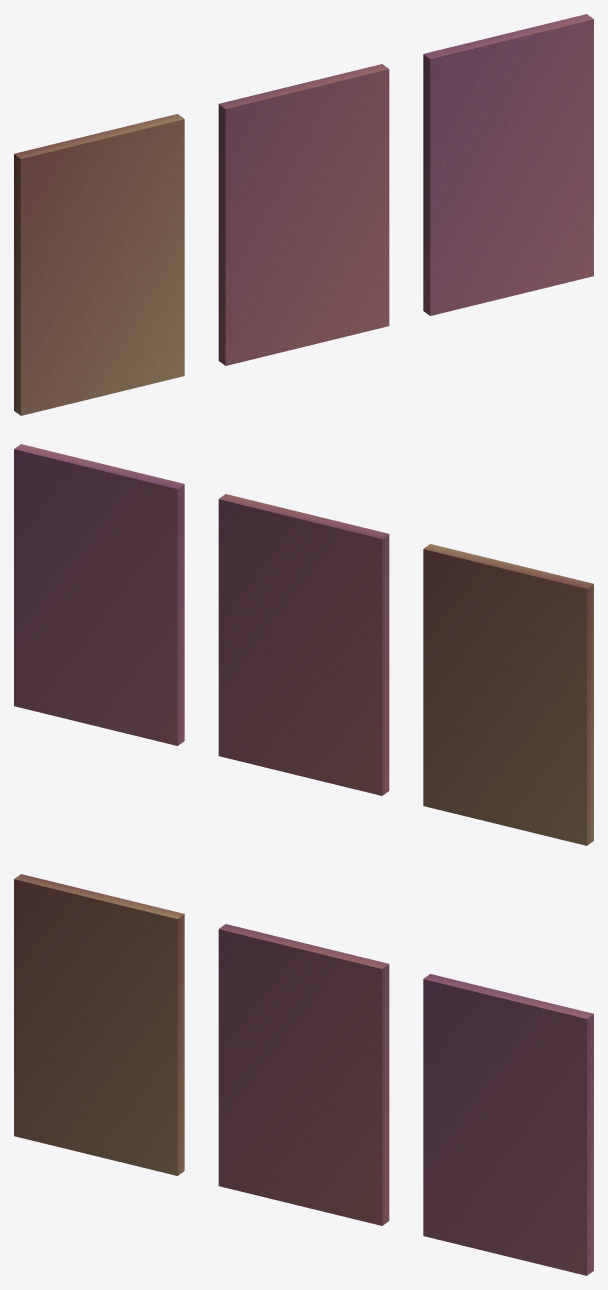
Rendered from state-default.glb.
The picture shows the model from 3 angles, top to bottom: view 1: azimuth 30°, elevation 25°; view 2: azimuth 150°, elevation 25°; view 3: azimuth 330°, elevation 25°; orthographic projection.
Parts seen in each view (by area): view 1: assetPrim:412ff4ad131ff-19c74372469:botanical-canvas-center, assetPrim:412ff4ad131ff-19c74372469:botanical-canvas-left, assetPrim:412ff4ad131ff-19c74372469:botanical-canvas-right; view 2: assetPrim:412ff4ad131ff-19c74372469:botanical-canvas-center, assetPrim:412ff4ad131ff-19c74372469:botanical-canvas-left, assetPrim:412ff4ad131ff-19c74372469:botanical-canvas-right; view 3: assetPrim:412ff4ad131ff-19c74372469:botanical-canvas-center, assetPrim:412ff4ad131ff-19c74372469:botanical-canvas-left, assetPrim:412ff4ad131ff-19c74372469:botanical-canvas-right.
Boxes of the visible parts, x1,y1,x2,y2 form: assetPrim:412ff4ad131ff-19c74372469:botanical-canvas-center: (218,64,389,365); assetPrim:412ff4ad131ff-19c74372469:botanical-canvas-left: (14,114,184,415); assetPrim:412ff4ad131ff-19c74372469:botanical-canvas-right: (423,14,593,315); assetPrim:412ff4ad131ff-19c74372469:botanical-canvas-center: (218,494,389,795); assetPrim:412ff4ad131ff-19c74372469:botanical-canvas-left: (423,544,593,845); assetPrim:412ff4ad131ff-19c74372469:botanical-canvas-right: (14,444,184,745); assetPrim:412ff4ad131ff-19c74372469:botanical-canvas-center: (218,924,389,1225); assetPrim:412ff4ad131ff-19c74372469:botanical-canvas-left: (14,874,184,1175); assetPrim:412ff4ad131ff-19c74372469:botanical-canvas-right: (423,974,593,1275).
Bounding box in the file's own units: 1.4 × 0.6 × 0.03.
3 materials, 3 textured.
